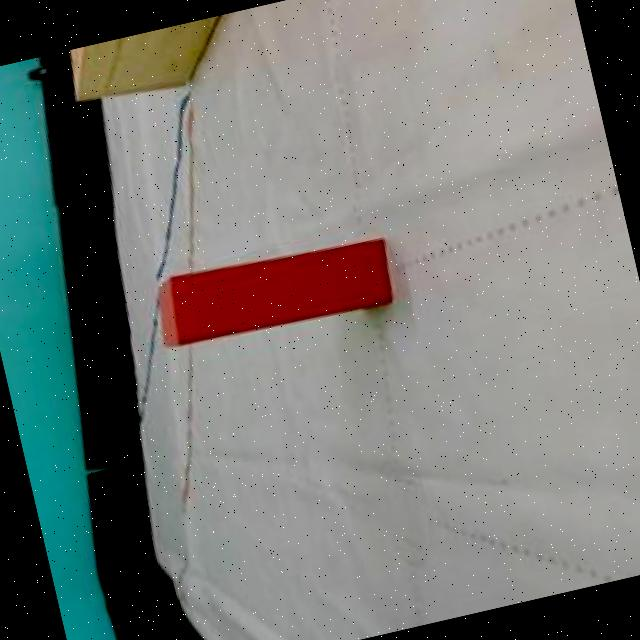redbox: (146, 226, 400, 356)
